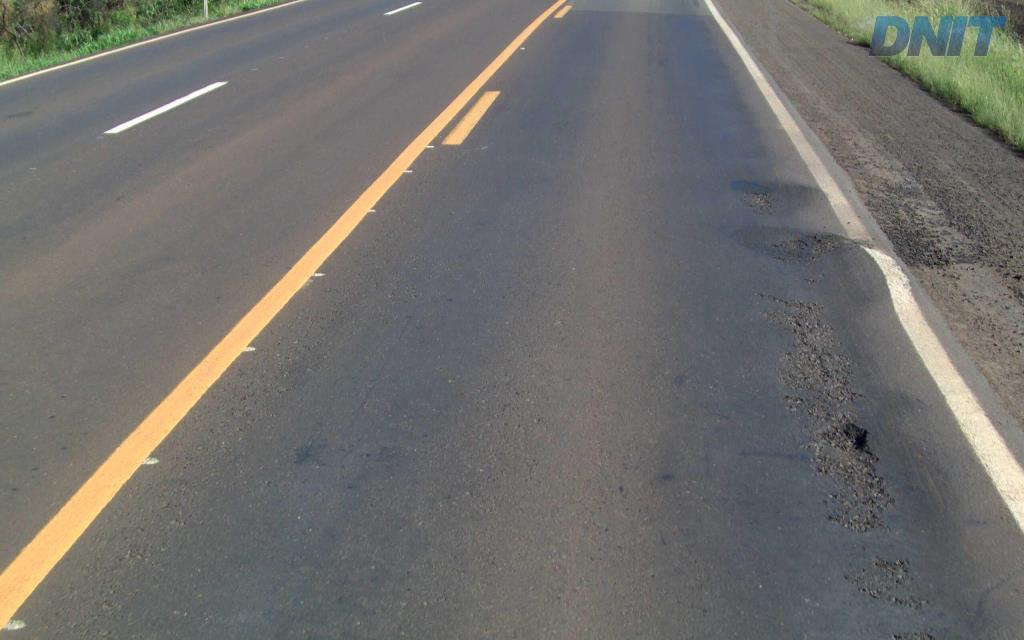crack: (822, 419, 884, 507), (800, 332, 832, 386)
pothole: (809, 416, 876, 459)
